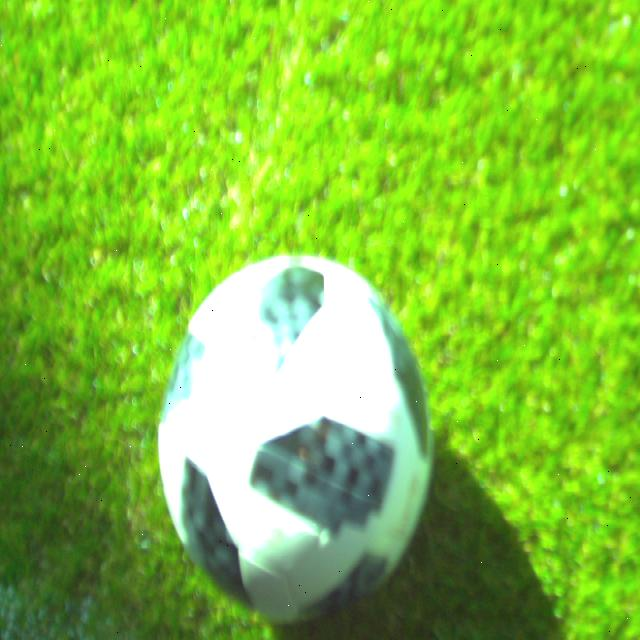ball: (158, 253, 433, 623)
